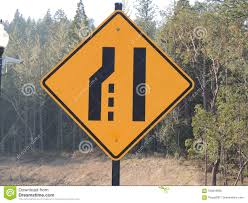laneEnds: (40, 7, 197, 162)
